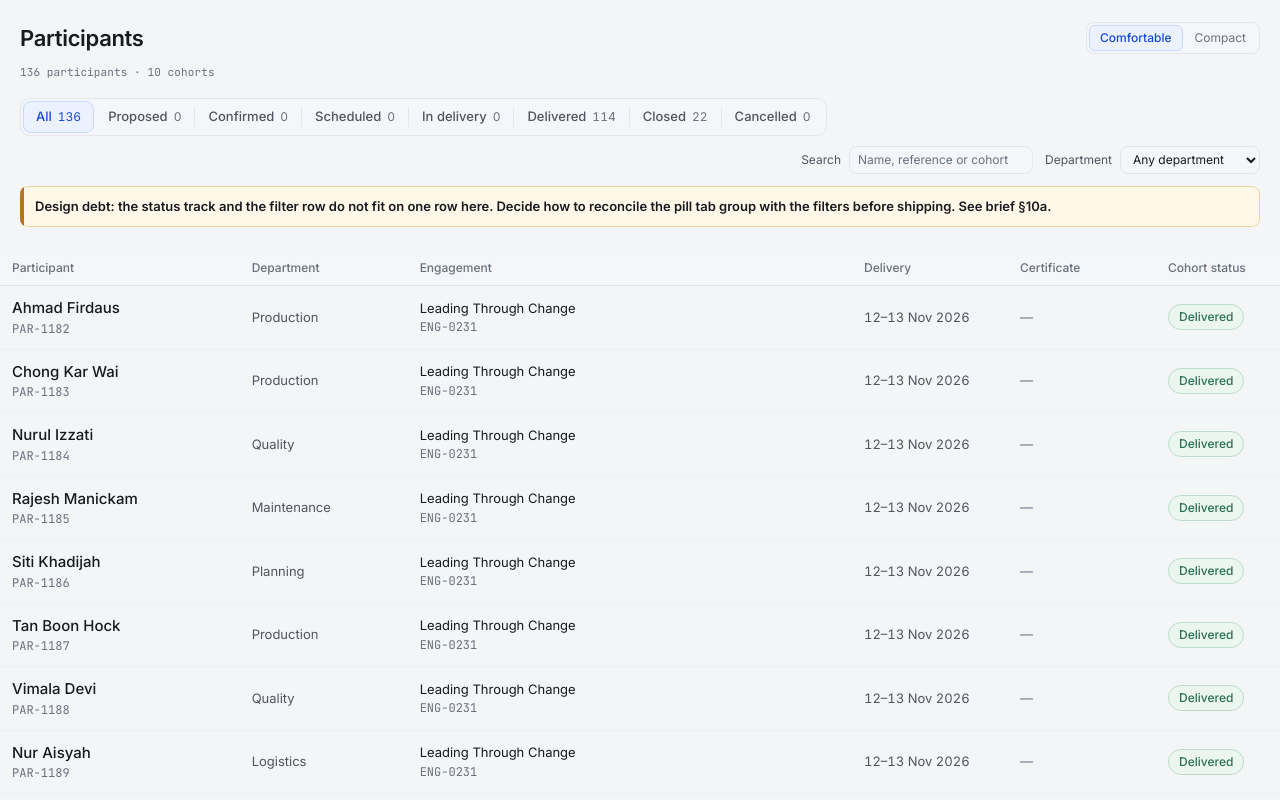
M10 · participant directory › narrows to one cohort through the search, which is what its placeholder promises
Expected: the text "Ahmad Firdaus" is shown, [12,298,120,317]
Type "Leading Through Change" into the search field labelled "Search" at (941, 160), box [849,146,1033,174]
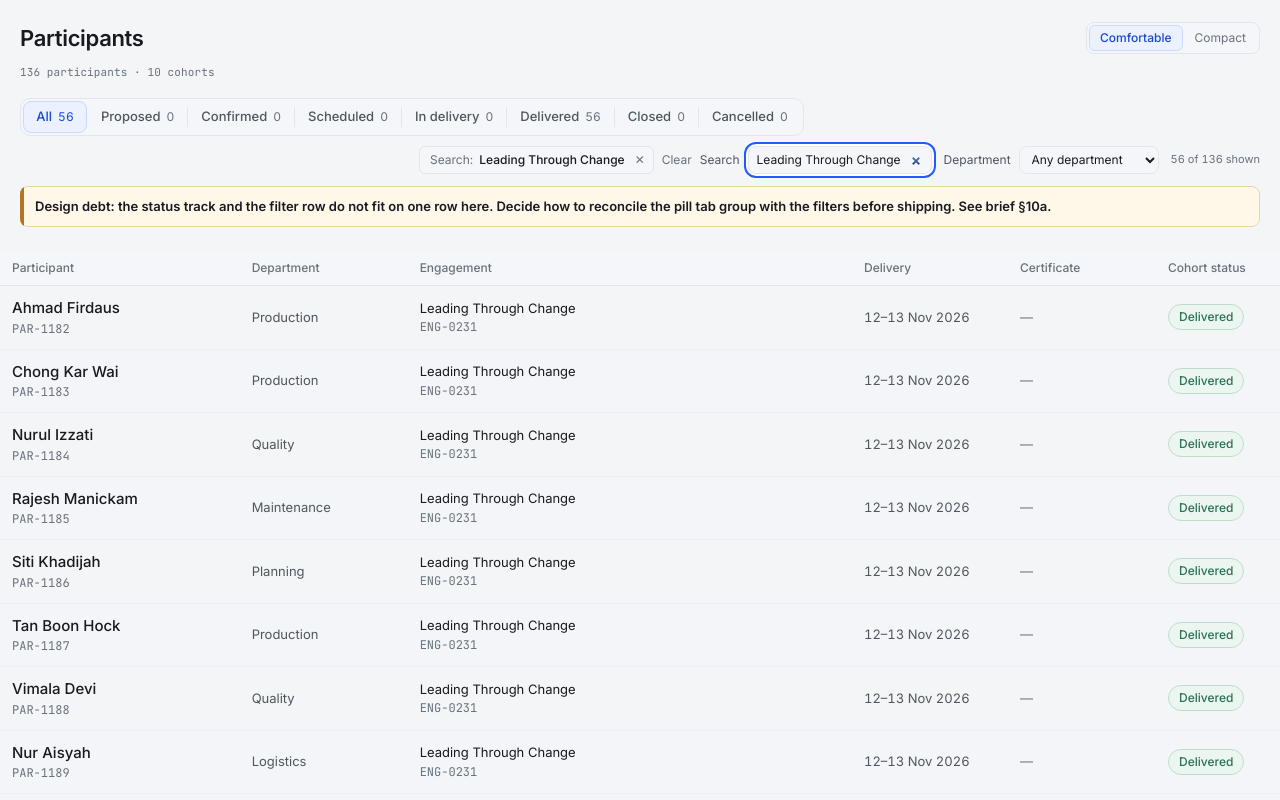
Expected: the text "Leading Through Change" in the row of "Ahmad Firdaus" is shown, [420,300,576,316]
Now the text "Search:" is shown, box [430,150,473,168]
Now the text "56 of 136 shown" is shown, box [1171,151,1260,168]
